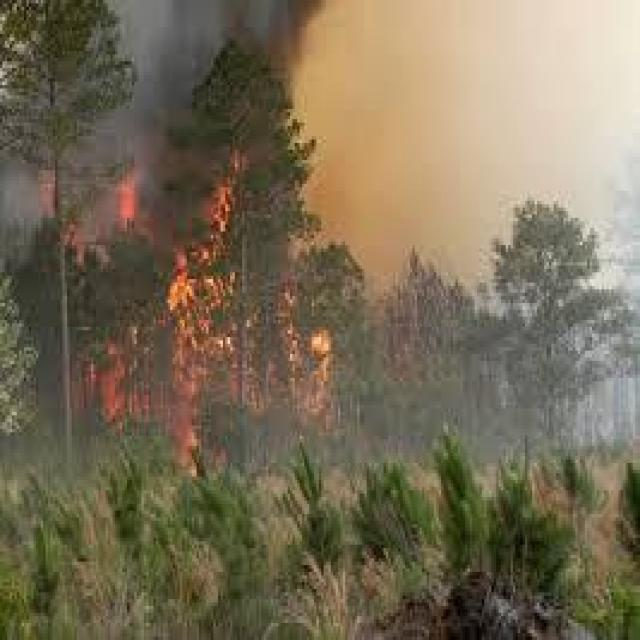Fire: (38, 152, 328, 474)
Smoke: (294, 1, 640, 303), (0, 0, 221, 242)
